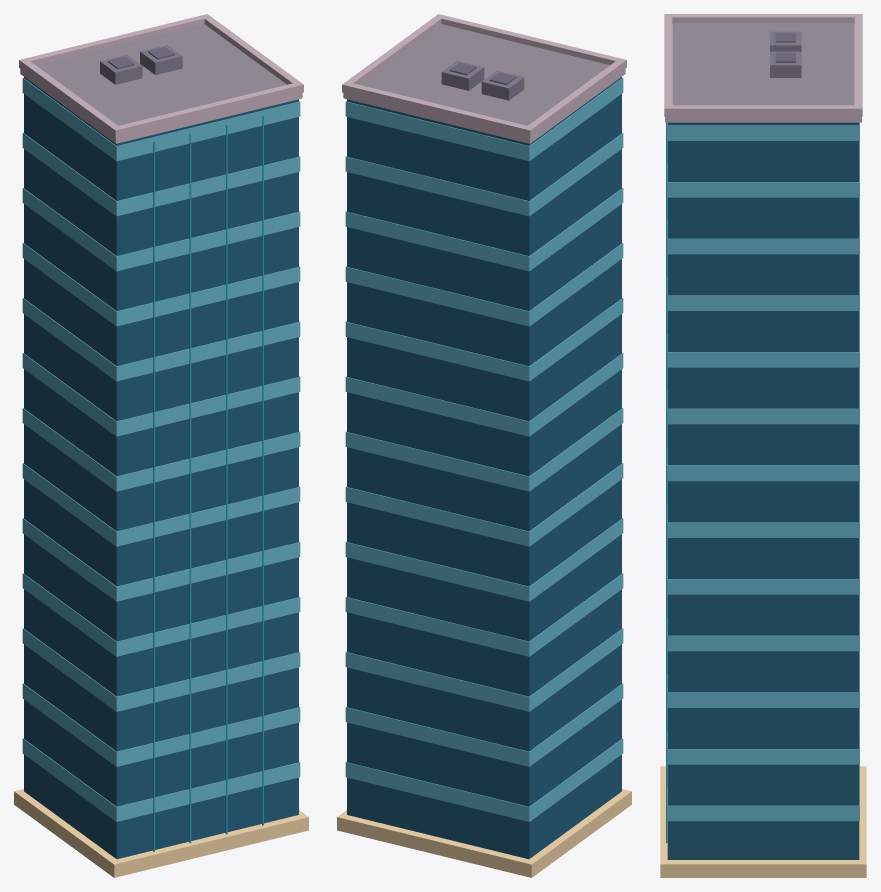
Rendered from Building_Blue_Tall.glb.
3 views of the same model, side by side, from view 1: azimuth 30°, elevation 25°; view 2: azimuth 150°, elevation 25°; view 3: azimuth 270°, elevation 25° (orthographic). The views are drawn at different scales.
Parts seen in each view (by area): view 1: Building_Blue_Tall; view 2: Building_Blue_Tall; view 3: Building_Blue_Tall.
Boxes of the visible parts, <box> form: Building_Blue_Tall: <box>14,14,308,877</box>; Building_Blue_Tall: <box>337,14,631,877</box>; Building_Blue_Tall: <box>660,14,866,877</box>.
Bounding box in the file's own units: 3.65 × 13.51 × 3.25.
